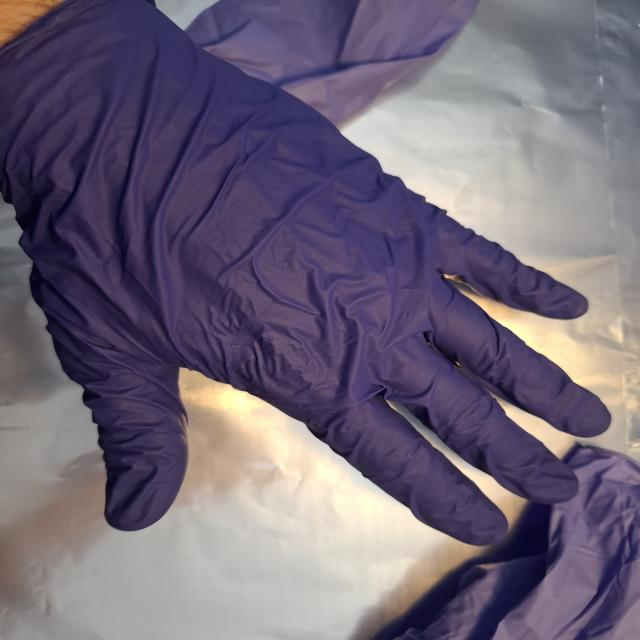glove_on: (7, 11, 617, 552)
